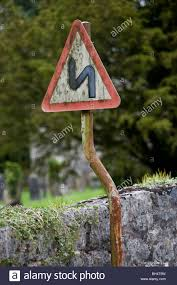Double_bend_left: (30, 10, 134, 123)
